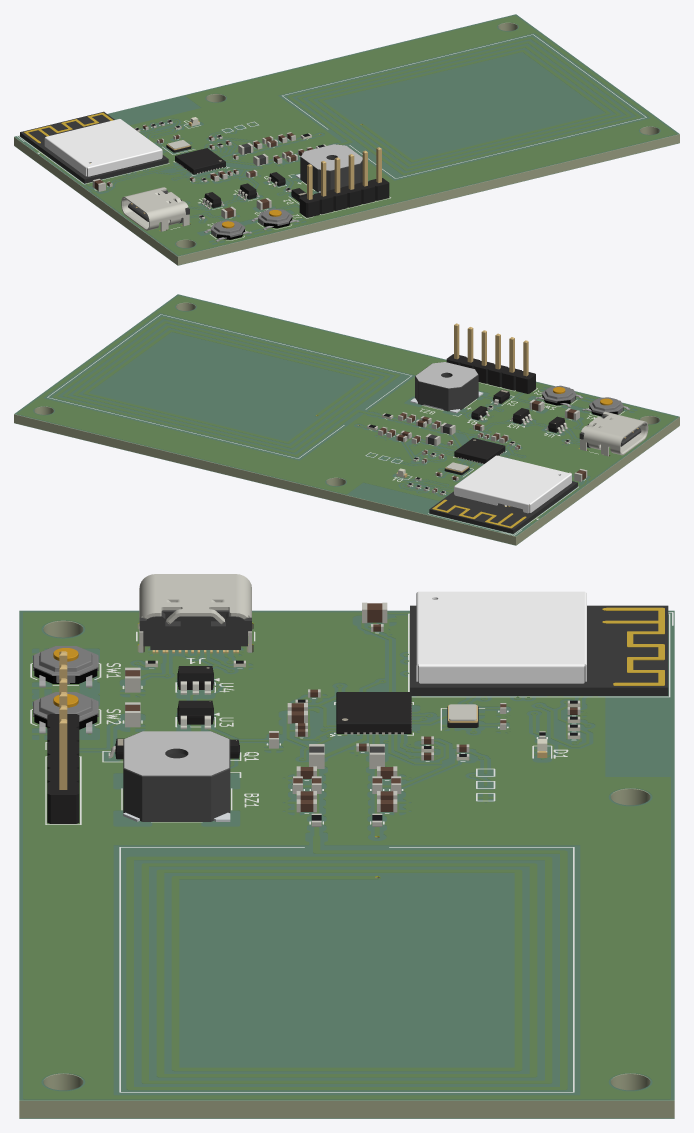
File: nfc_reader.glb
The picture shows the model from 3 angles, top to bottom: view 1: azimuth 30°, elevation 25°; view 2: azimuth 150°, elevation 25°; view 3: azimuth 270°, elevation 25°; orthographic projection. The views are drawn at different scales.
Parts seen in each view (by area): view 1: =>[0:1:1:314], =>[0:1:1:316], =>[0:1:1:311], NAUO2, =>[0:1:1:294], =>[0:1:1:300], =>[0:1:1:304], NAUO240, =>[0:1:1:313], =>[0:1:1:292] (×2), =>[0:1:1:9], =>[0:1:1:315] (+1 smaller); view 2: =>[0:1:1:314], =>[0:1:1:316], =>[0:1:1:311], NAUO2, =>[0:1:1:294], =>[0:1:1:304], NAUO240, =>[0:1:1:300], =>[0:1:1:313], =>[0:1:1:292] (×2), =>[0:1:1:9], =>[0:1:1:315] (+1 smaller); view 3: =>[0:1:1:314], =>[0:1:1:311], =>[0:1:1:316], NAUO2, =>[0:1:1:304], NAUO240, =>[0:1:1:300], =>[0:1:1:313], =>[0:1:1:294], =>[0:1:1:292] (×2), =>[0:1:1:9], NAUO246 (+2 smaller).
Boxes of the visible parts, bbox=[...] form: =>[0:1:1:314]: bbox=[14, 14, 679, 256]; =>[0:1:1:316]: bbox=[14, 15, 679, 265]; =>[0:1:1:311]: bbox=[34, 16, 675, 254]; NAUO2: bbox=[44, 119, 162, 176]; =>[0:1:1:294]: bbox=[299, 147, 389, 217]; =>[0:1:1:300]: bbox=[121, 187, 189, 231]; =>[0:1:1:304]: bbox=[295, 144, 362, 192]; NAUO240: bbox=[20, 111, 168, 183]; =>[0:1:1:313]: bbox=[16, 34, 646, 240]; =>[0:1:1:292] (×2): bbox=[204, 208, 299, 241]; =>[0:1:1:9]: bbox=[175, 148, 225, 174]; =>[0:1:1:315]: bbox=[15, 143, 679, 265]; =>[0:1:1:314]: bbox=[14, 294, 679, 536]; =>[0:1:1:316]: bbox=[14, 295, 679, 545]; =>[0:1:1:311]: bbox=[18, 296, 676, 522]; NAUO2: bbox=[454, 455, 571, 513]; =>[0:1:1:294]: bbox=[446, 323, 535, 393]; =>[0:1:1:304]: bbox=[410, 362, 483, 413]; NAUO240: bbox=[429, 481, 577, 533]; =>[0:1:1:300]: bbox=[579, 411, 648, 456]; =>[0:1:1:313]: bbox=[47, 314, 624, 535]; =>[0:1:1:292] (×2): bbox=[535, 385, 630, 416]; =>[0:1:1:9]: bbox=[454, 438, 505, 464]; =>[0:1:1:315]: bbox=[14, 423, 678, 545]; =>[0:1:1:314]: bbox=[19, 610, 674, 1100]; =>[0:1:1:311]: bbox=[23, 613, 670, 1098]; =>[0:1:1:316]: bbox=[19, 611, 674, 1118]; NAUO2: bbox=[416, 591, 586, 683]; =>[0:1:1:304]: bbox=[123, 731, 230, 821]; NAUO240: bbox=[410, 605, 668, 695]; =>[0:1:1:300]: bbox=[139, 574, 251, 653]; =>[0:1:1:313]: bbox=[30, 612, 673, 1092]; =>[0:1:1:294]: bbox=[47, 651, 79, 823]; =>[0:1:1:292] (×2): bbox=[33, 646, 98, 733]; =>[0:1:1:9]: bbox=[336, 692, 411, 734]; NAUO246: bbox=[604, 607, 664, 685].
Bounding box in the file's own units: 0.092 × 0.0115 × 0.052.
